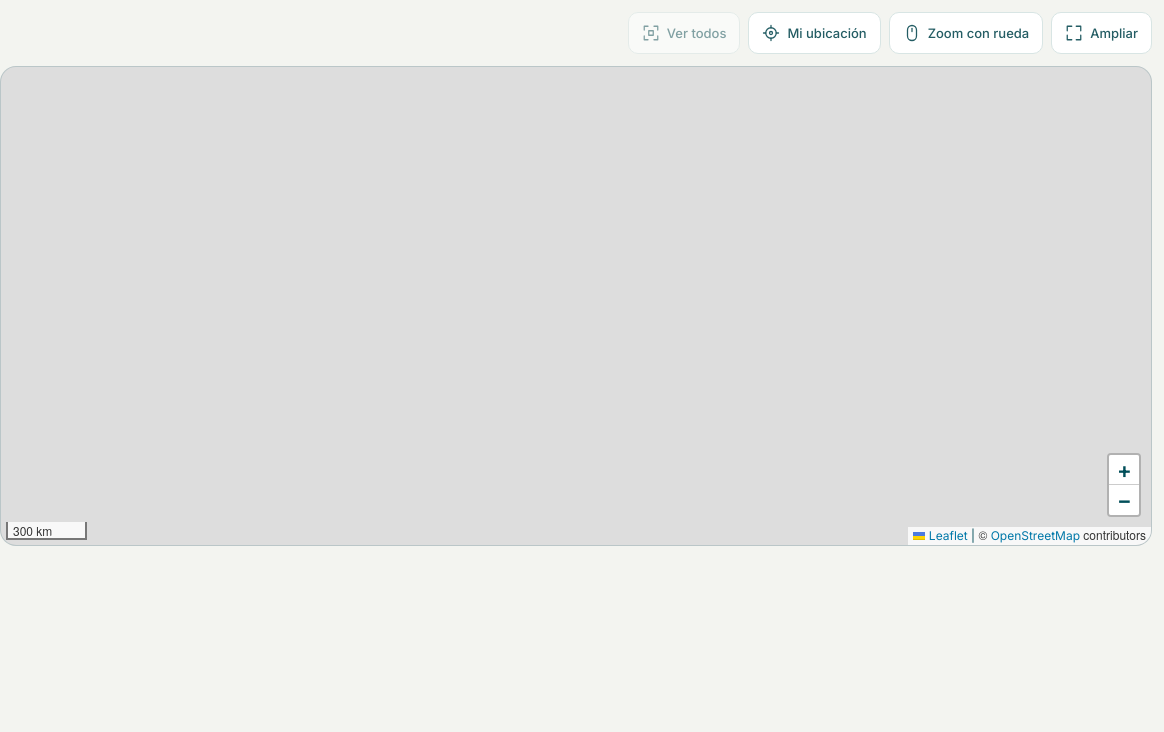
it: Mapa interactivo › solicita ubicación solo al pulsar el control y permite continuar si se deniega
The width and height of the screenshot is (1164, 732).
Click the button titled "Centrar en mi ubicación" at coordinates (814, 33), box [748,12,881,54]
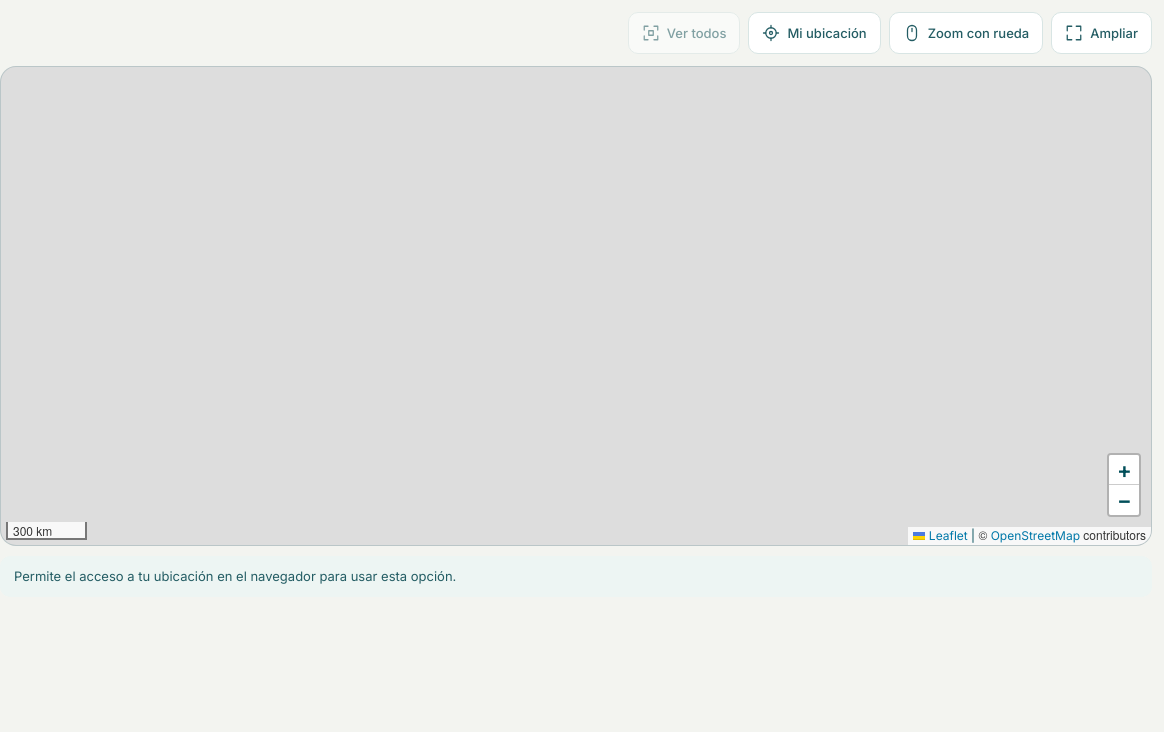
Now the text "Permite el acceso" is shown, box [14,568,456,584]
